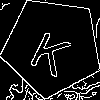K: (27, 22, 78, 78)
